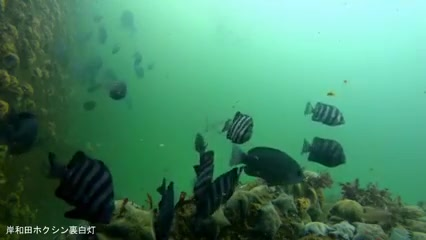ishidai: (48, 150, 124, 225), (304, 135, 347, 168), (301, 100, 345, 129), (222, 107, 253, 146)
smallfish: (229, 142, 306, 193)
